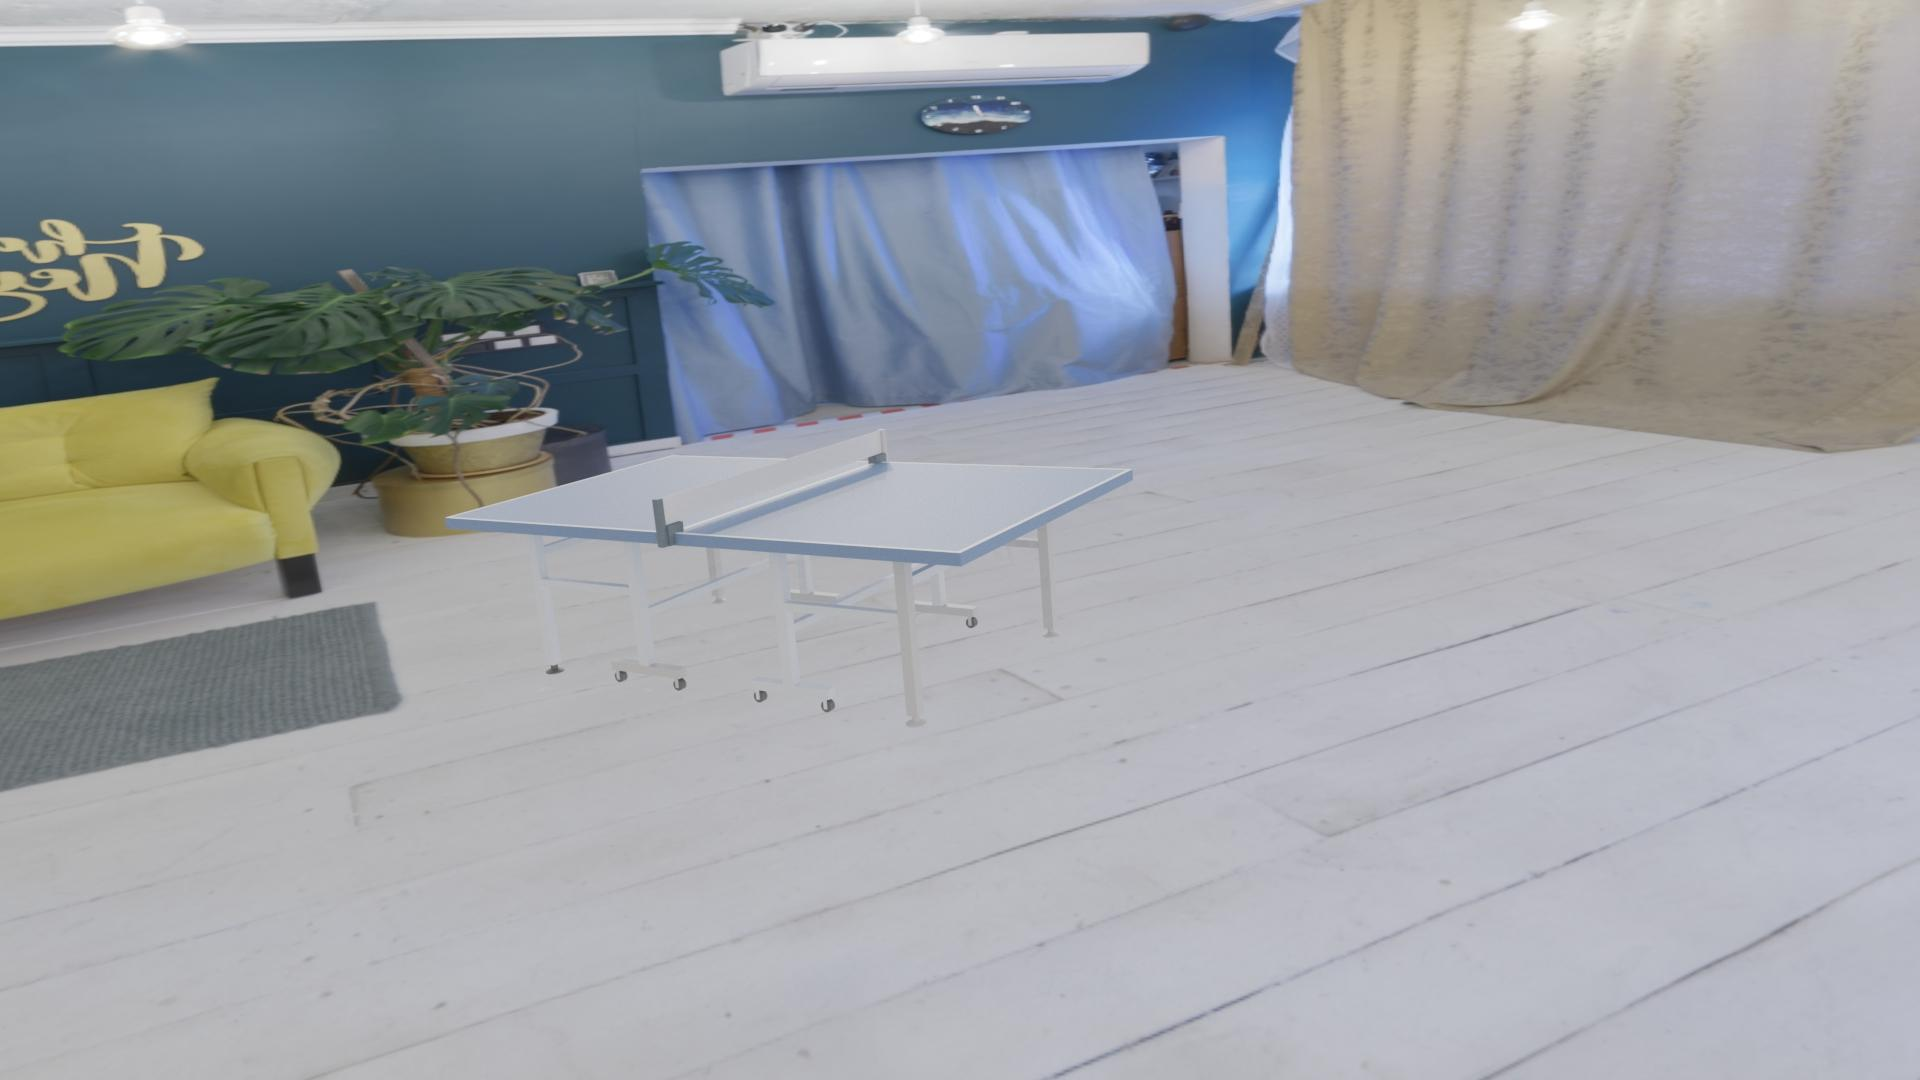table: (451, 456, 1126, 551)
